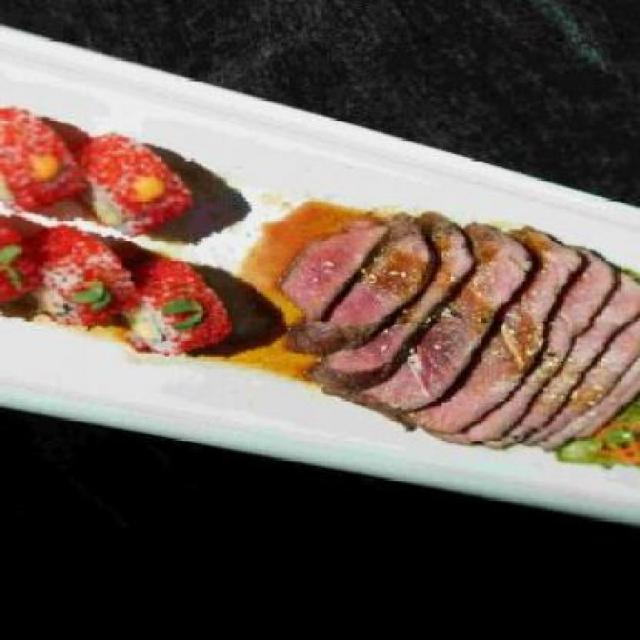steak: (274, 194, 638, 452)
